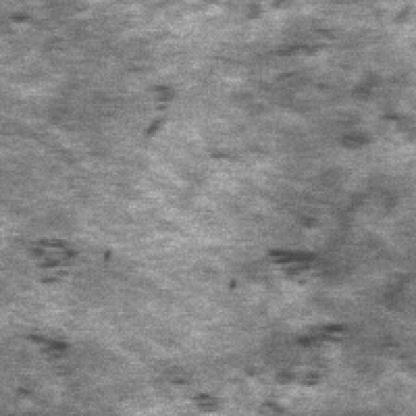rolled-in_scale: (268, 21, 412, 208), (254, 314, 354, 416), (29, 233, 85, 295)
